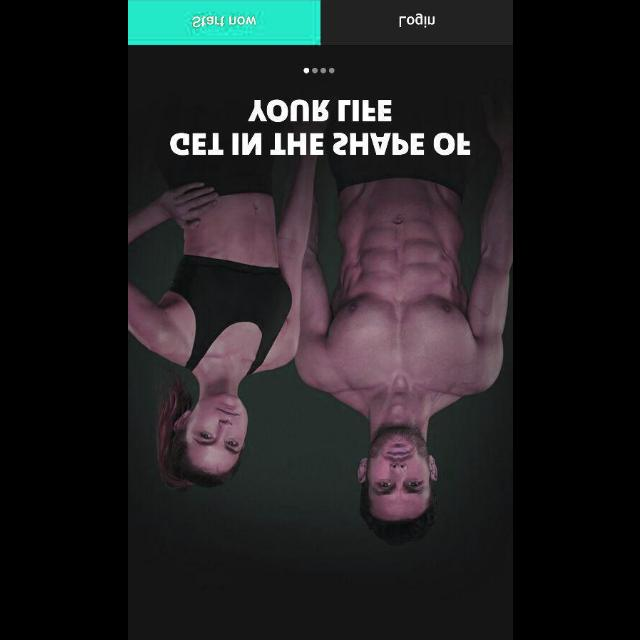backgroundimage: (128, 45, 512, 639)
pageindicator: (303, 68, 335, 74)
text: (170, 100, 470, 156)
textbutton: (128, 0, 320, 44), (320, 0, 512, 44)
